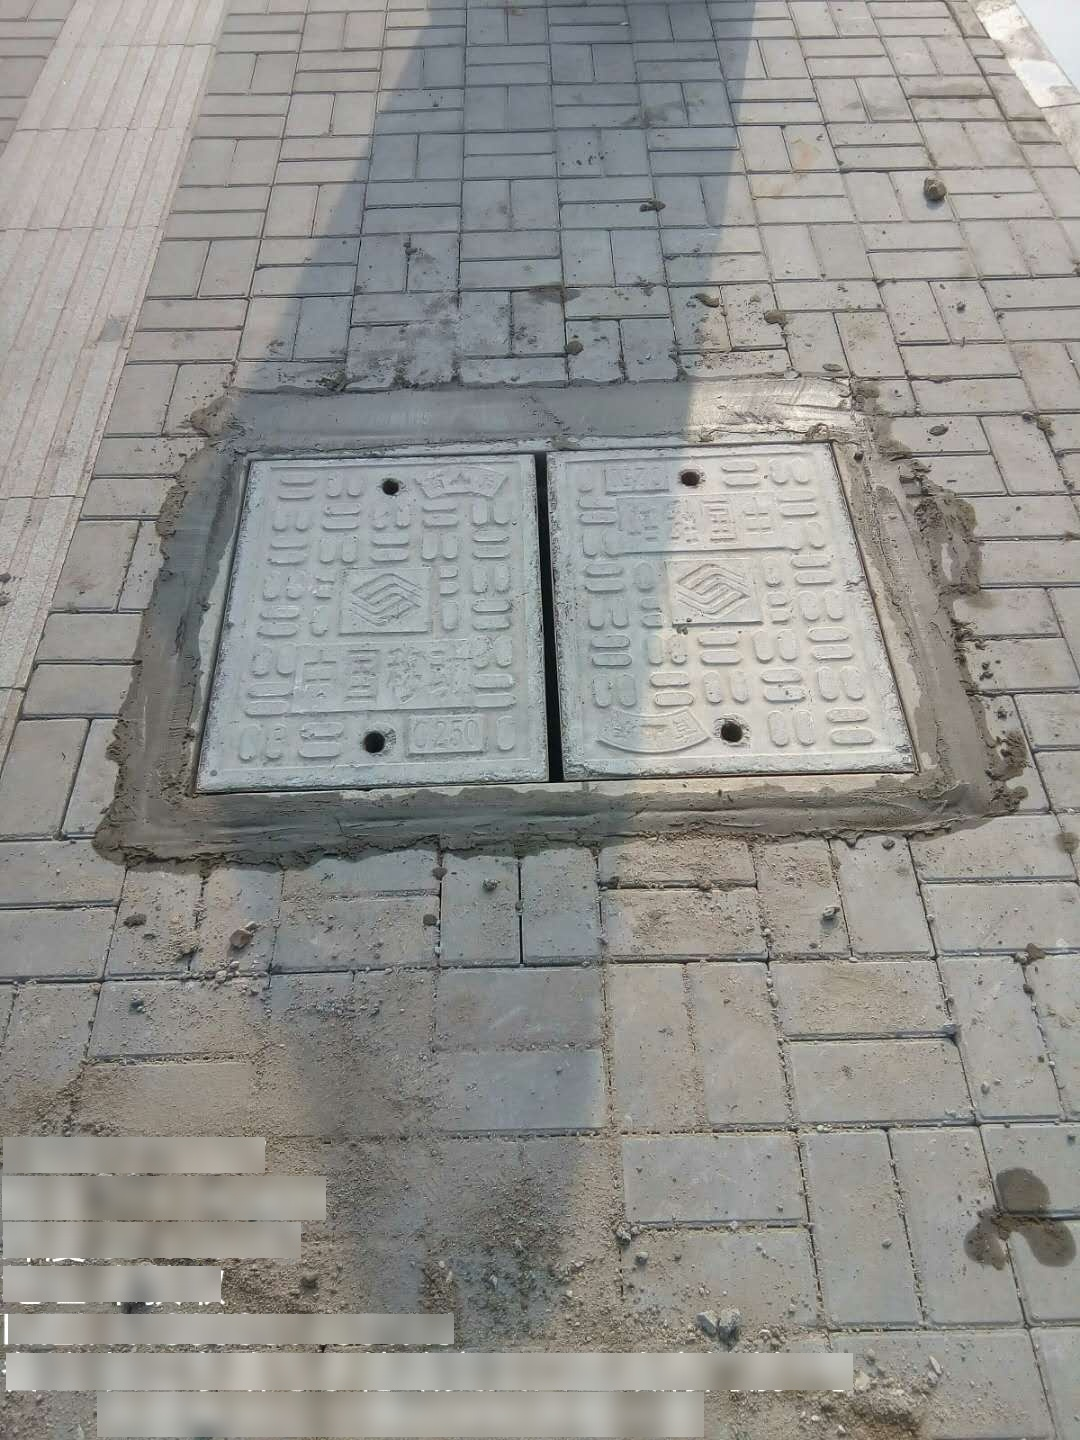good: (168, 435, 940, 798)
